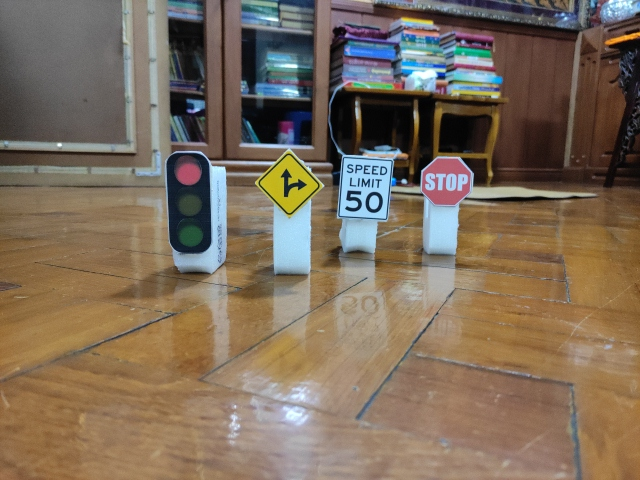Red Traffic Light: (166, 151, 213, 254)
Speed Limit 50: (336, 155, 394, 221)
Stop Sign: (419, 157, 474, 207)
Straight Or Right Sign: (257, 151, 321, 215)
